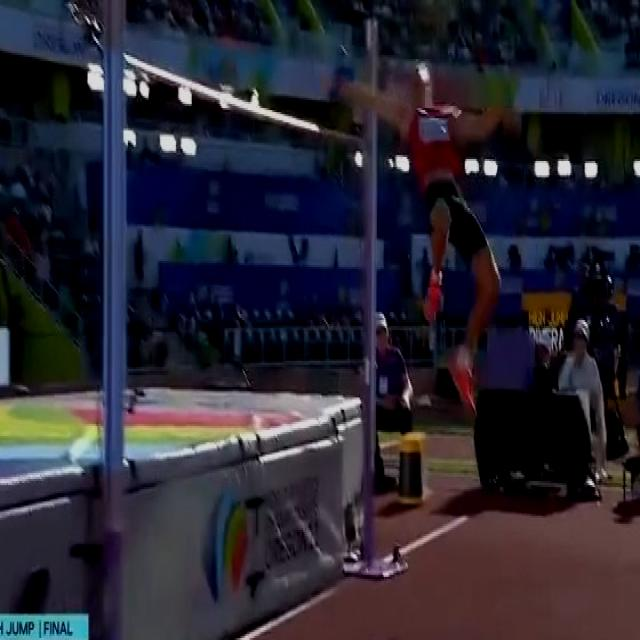jump: (336, 58, 512, 417)
